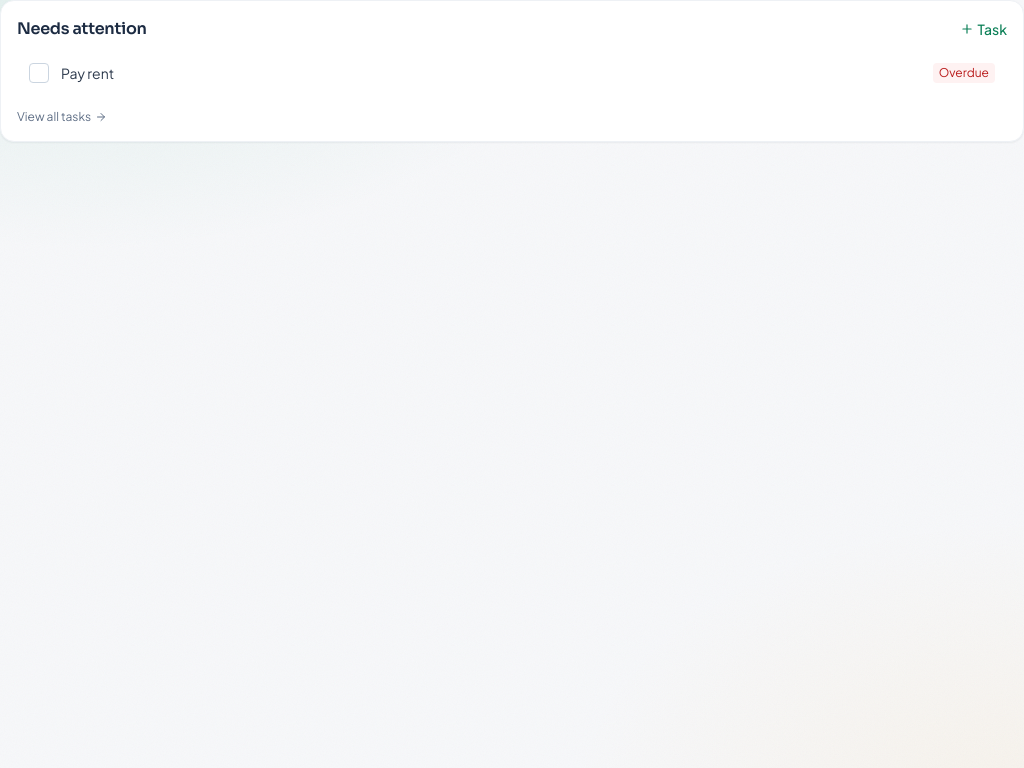
Test: NeedsAttention › ticking a task off removes it from the list, not just marks it
The width and height of the screenshot is (1024, 768).
Expected: the text "Pay rent" is shown, [61,64,114,82]
Click the button named "Mark \"Pay rent\" as done" at [39, 73], box [29,63,49,83]
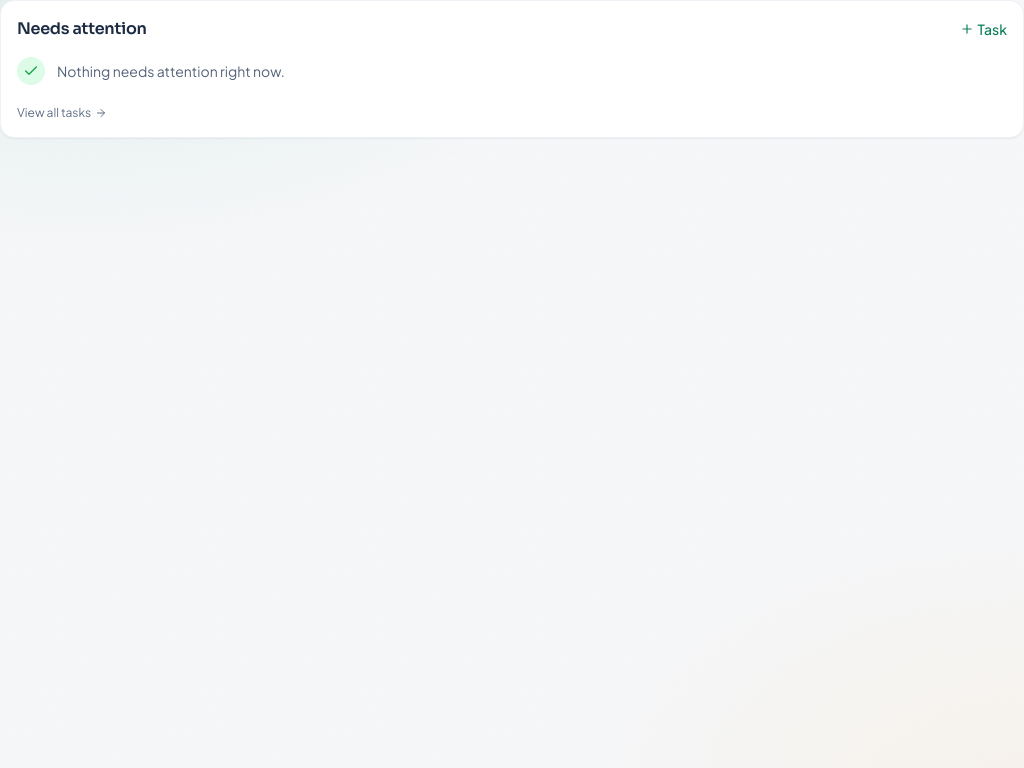
Expected: the button "Pay rent" is gone
Expected: the text "Nothing needs attention right now." is shown, [57,61,285,81]
